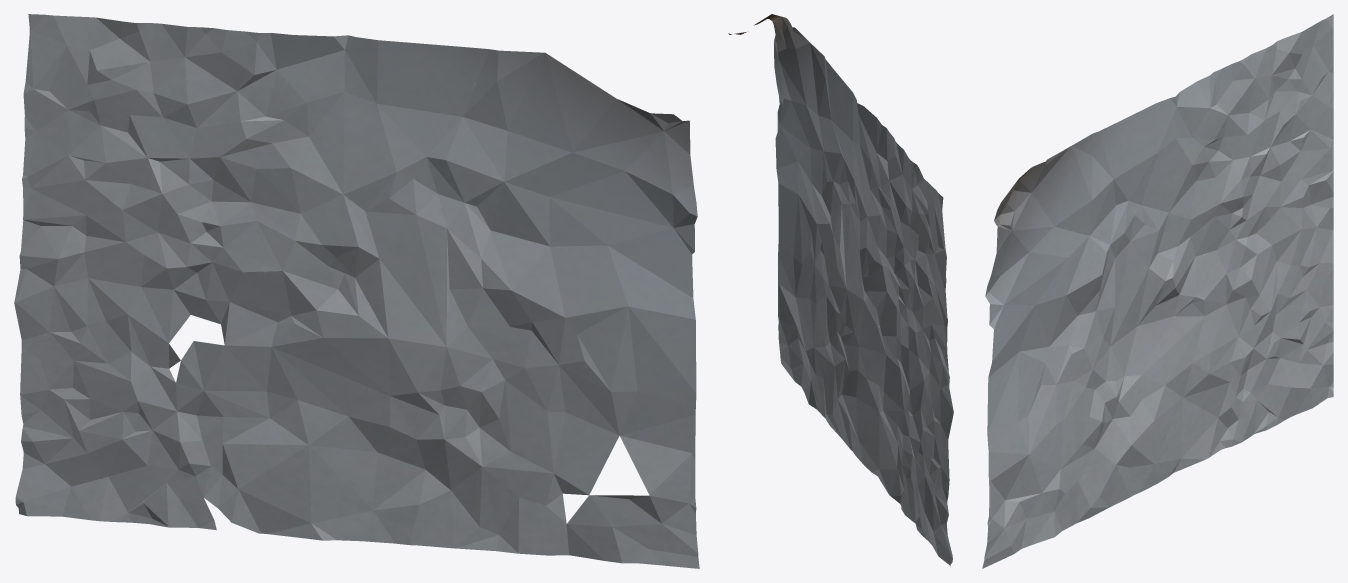
3 views of the same model, side by side, from view 1: azimuth 30°, elevation 25°; view 2: azimuth 150°, elevation 25°; view 3: azimuth 270°, elevation 25° (orthographic). The views are drawn at different scales.
Bounding box in the file's own units: 0.8081 × 0.8374 × 0.6904.
3 materials, 3 textured.
